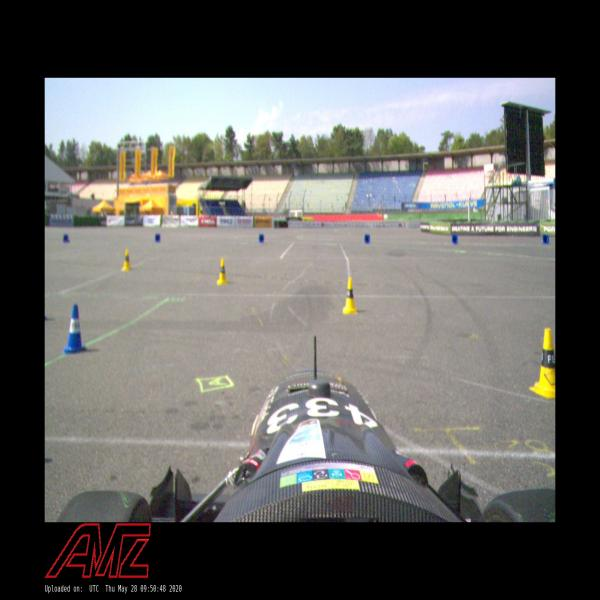blue_cone: (63, 304, 87, 354), (542, 234, 550, 244), (63, 233, 70, 244)
yellow_cone: (529, 327, 555, 400), (343, 277, 358, 316), (216, 258, 228, 287), (121, 248, 132, 273)
